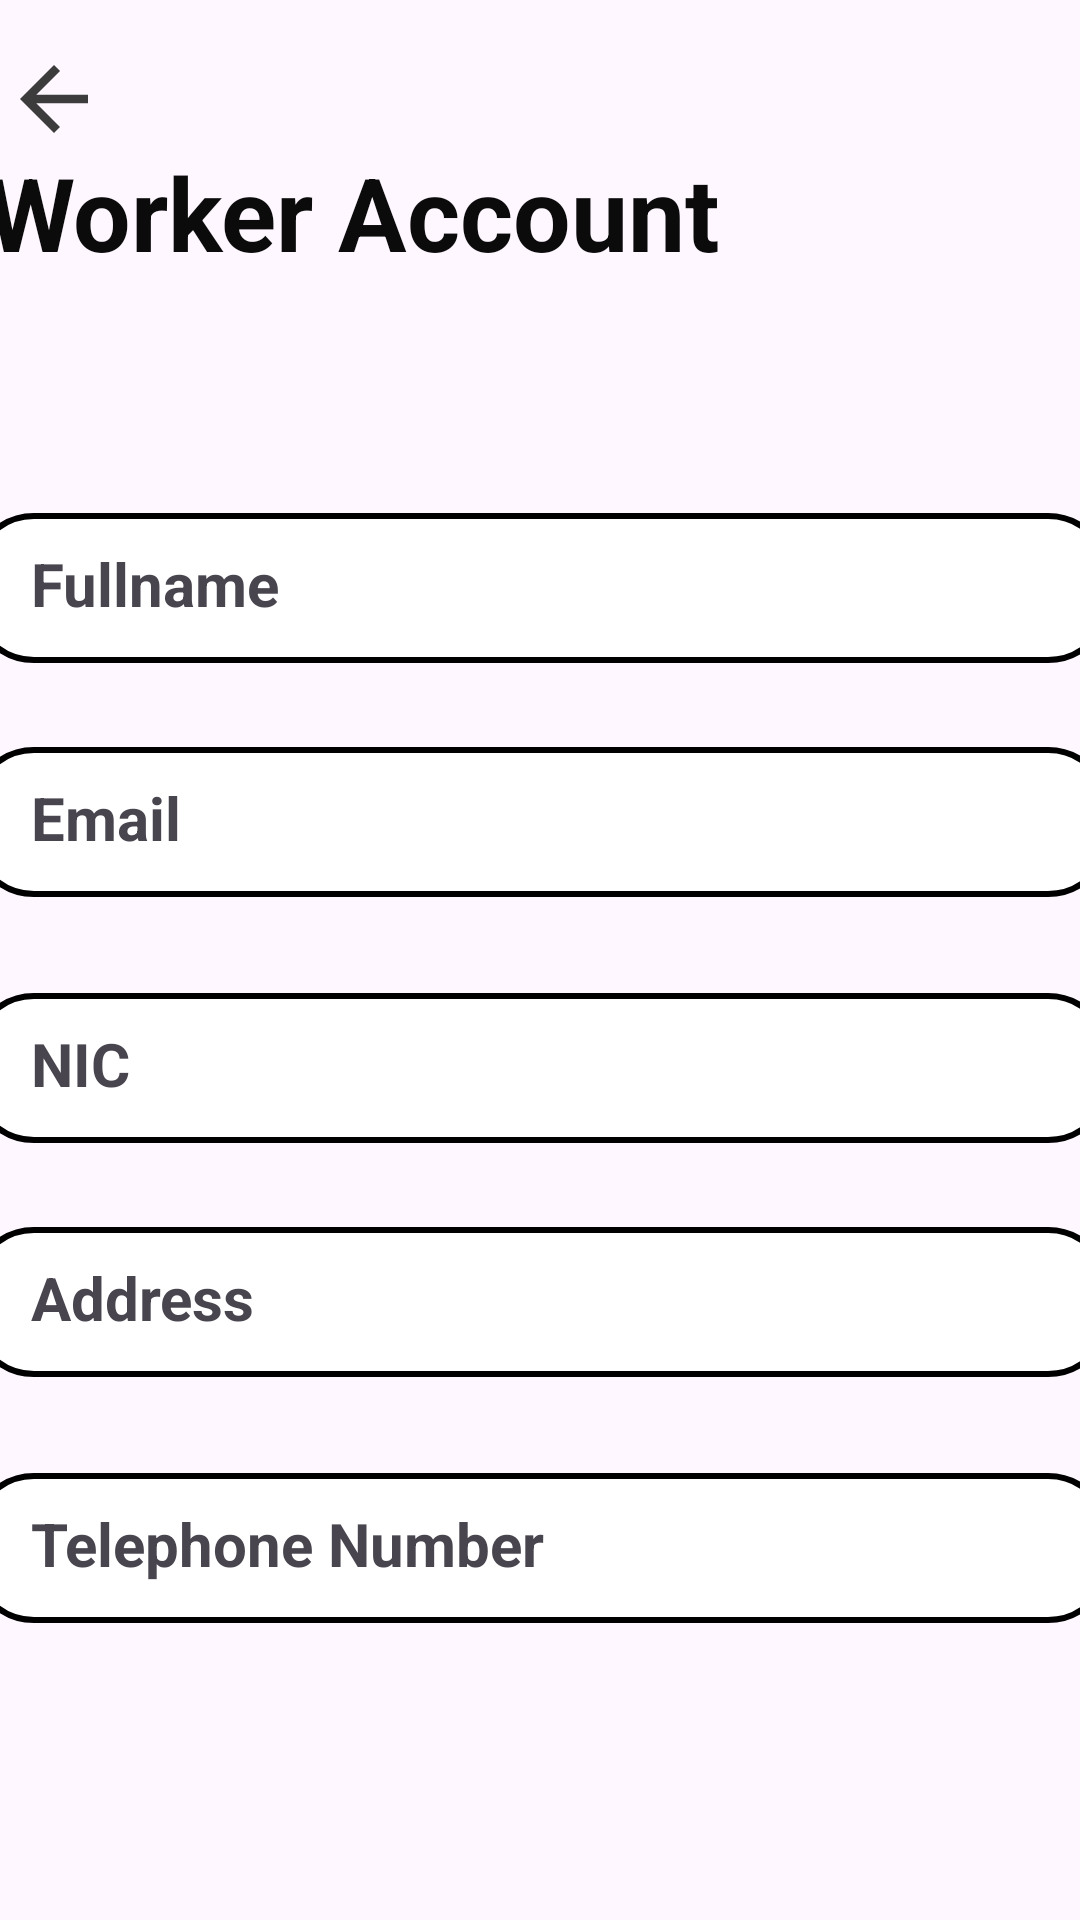

Screen size 1080*1920. Icon name, then its box in pixels as Rect(x1, y1, x2, y2):
arrow back: Rect(20, 65, 88, 133)
